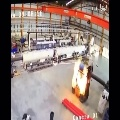fire: (72, 56, 88, 95)
